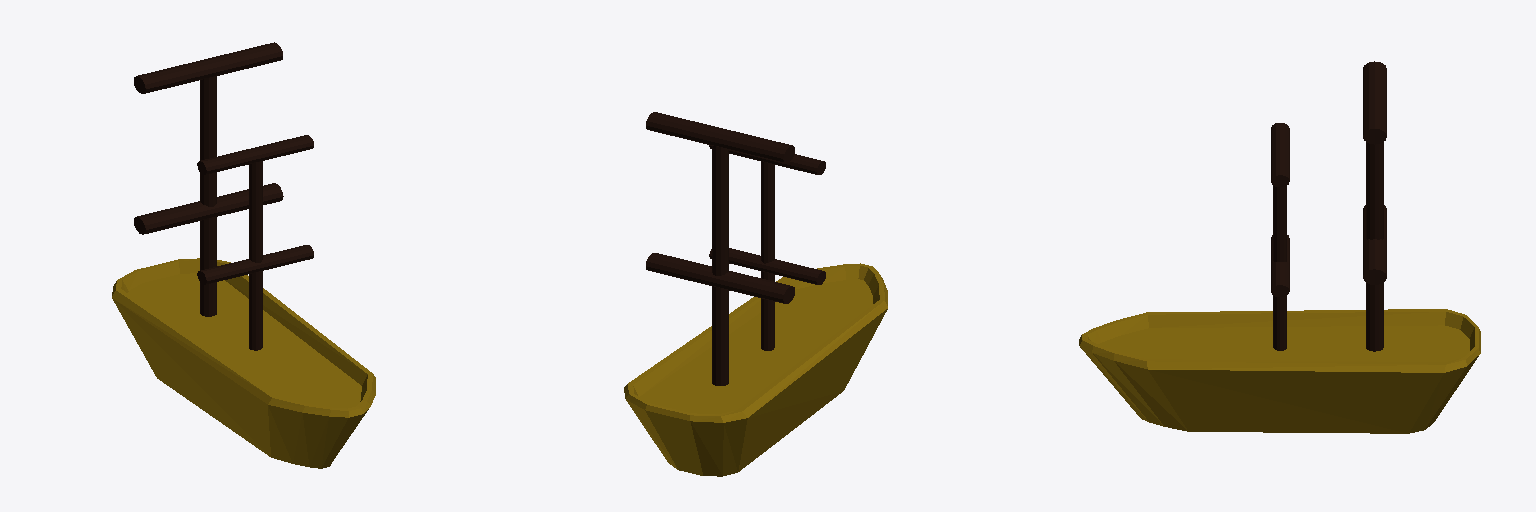
File: Boat.obj
The picture shows the model from 3 angles: view 1: azimuth 30°, elevation 25°; view 2: azimuth 150°, elevation 25°; view 3: azimuth 270°, elevation 25°; orthographic projection.
Visible parts, largest first — view 1: Boat.obj; view 2: Boat.obj; view 3: Boat.obj.
Part boxes in pixels (x1,y1,x2,y2): Boat.obj: (112, 42, 375, 468); Boat.obj: (624, 112, 887, 476); Boat.obj: (1079, 61, 1480, 433).
Bounding box in the file's own units: 1.05 × 2.34 × 2.64.